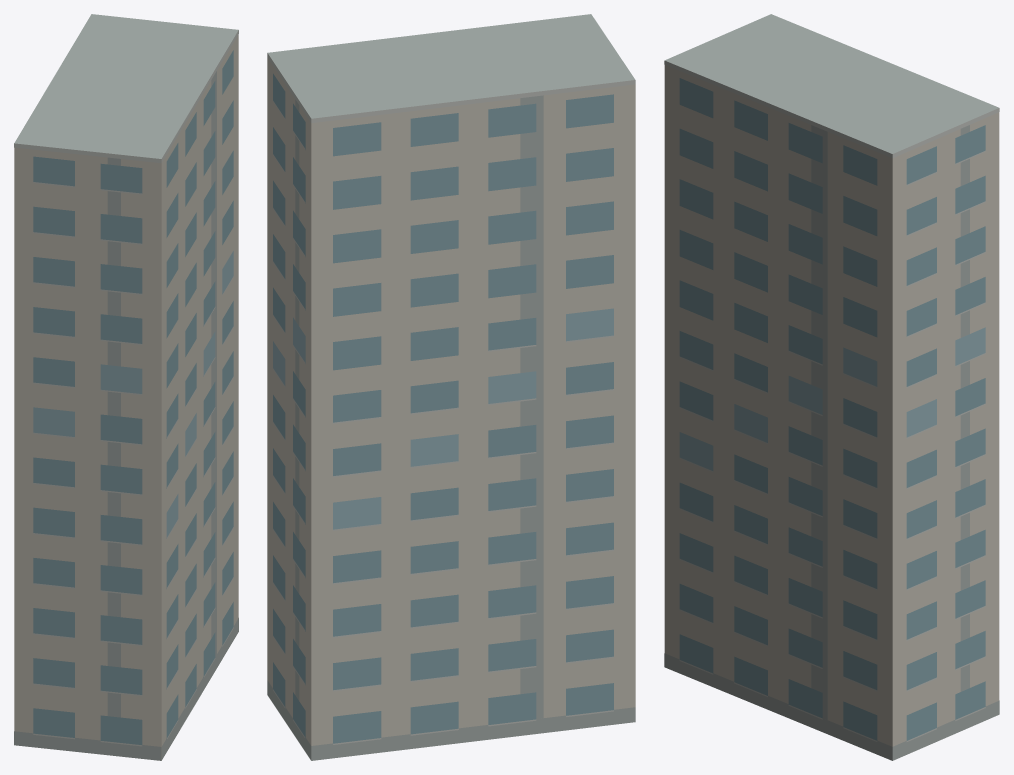
File: residential-c3a62041-2122-4a55-8633-2ed4bce48d16.glb
3 views of the same model, side by side, from view 1: azimuth 30°, elevation 25°; view 2: azimuth 150°, elevation 25°; view 3: azimuth 270°, elevation 25° (orthographic). The views are drawn at different scales.
Parts seen in each view (by area): view 1: residential-c3a62041-2122-4a55-8633-2ed4bce48d16.tmp; view 2: residential-c3a62041-2122-4a55-8633-2ed4bce48d16.tmp; view 3: residential-c3a62041-2122-4a55-8633-2ed4bce48d16.tmp.
Boxes of the visible parts, box(x1,y1,x2,y2) form: residential-c3a62041-2122-4a55-8633-2ed4bce48d16.tmp: box(14, 14, 238, 760); residential-c3a62041-2122-4a55-8633-2ed4bce48d16.tmp: box(267, 14, 635, 760); residential-c3a62041-2122-4a55-8633-2ed4bce48d16.tmp: box(664, 14, 999, 760).
Size of the model in its own units: 17.34 by 35 by 17.52.
